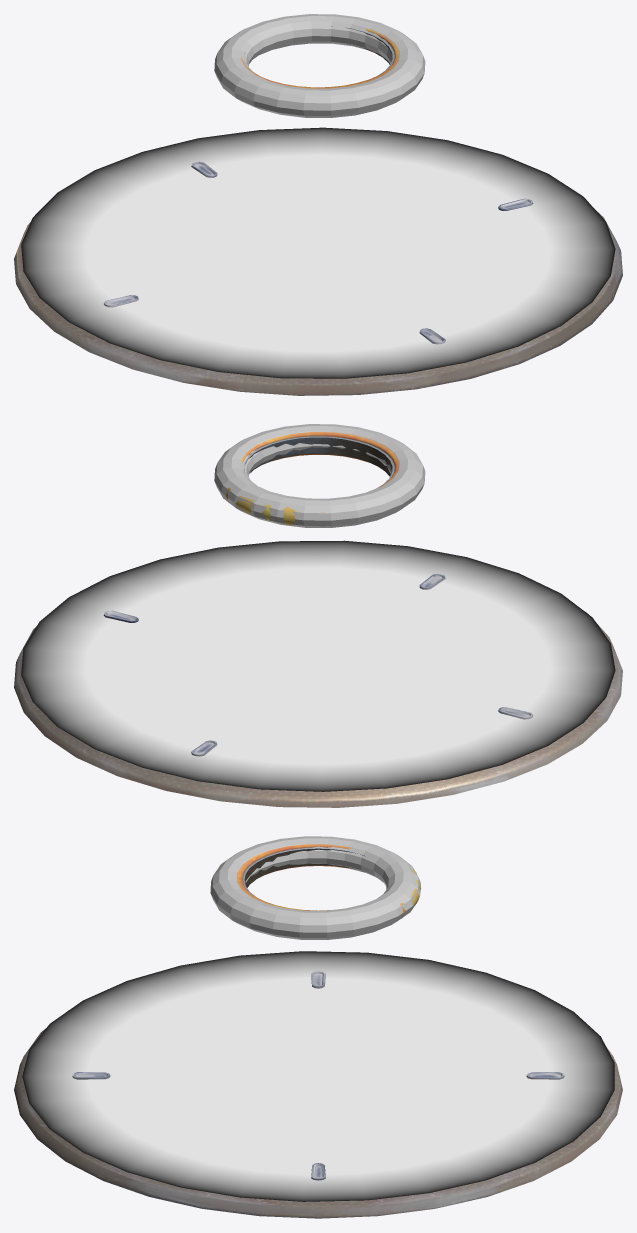
File: pref_TPC_v2_NeutralScoreArea03_winter_orange_frozen_lv1.fbx
3 views of the same model, one above another, from view 1: azimuth 30°, elevation 25°; view 2: azimuth 150°, elevation 25°; view 3: azimuth 270°, elevation 25° (orthographic).
Parts seen in each view (by area): view 1: dm_ice_1, sm_prop_platform06a_lv1, ring, sm_prop_platform06b_lv1; view 2: dm_ice_1, sm_prop_platform06a_lv1, ring, sm_prop_platform06b_lv1; view 3: dm_ice_1, sm_prop_platform06a_lv1, ring, sm_prop_platform06b_lv1.
Part boxes in pixels (box(x1,y1,x2,y2)): dm_ice_1: box(21, 127, 615, 378); sm_prop_platform06a_lv1: box(14, 161, 622, 395); ring: box(214, 14, 425, 117); sm_prop_platform06b_lv1: box(241, 26, 398, 88); dm_ice_1: box(21, 540, 615, 791); sm_prop_platform06a_lv1: box(14, 573, 622, 807); ring: box(214, 424, 425, 527); sm_prop_platform06b_lv1: box(225, 432, 398, 526); dm_ice_1: box(22, 951, 614, 1201); sm_prop_platform06a_lv1: box(14, 971, 622, 1218); ring: box(210, 836, 420, 939); sm_prop_platform06b_lv1: box(237, 844, 421, 918).
Size of the model in its own units: 7.46 by 2.9 by 7.46.
